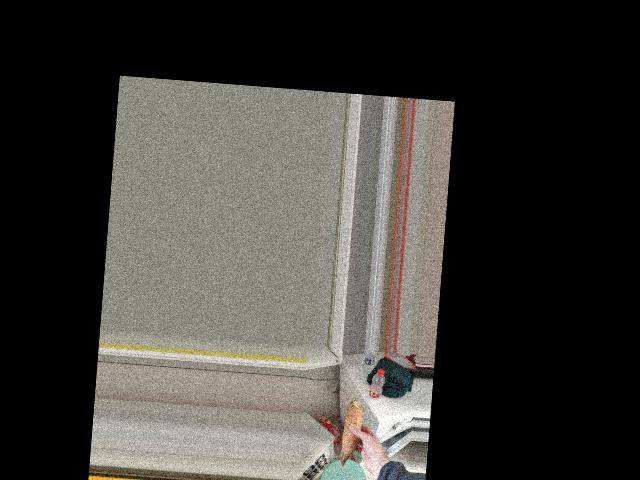sweet_potato: (341, 396, 361, 468)
